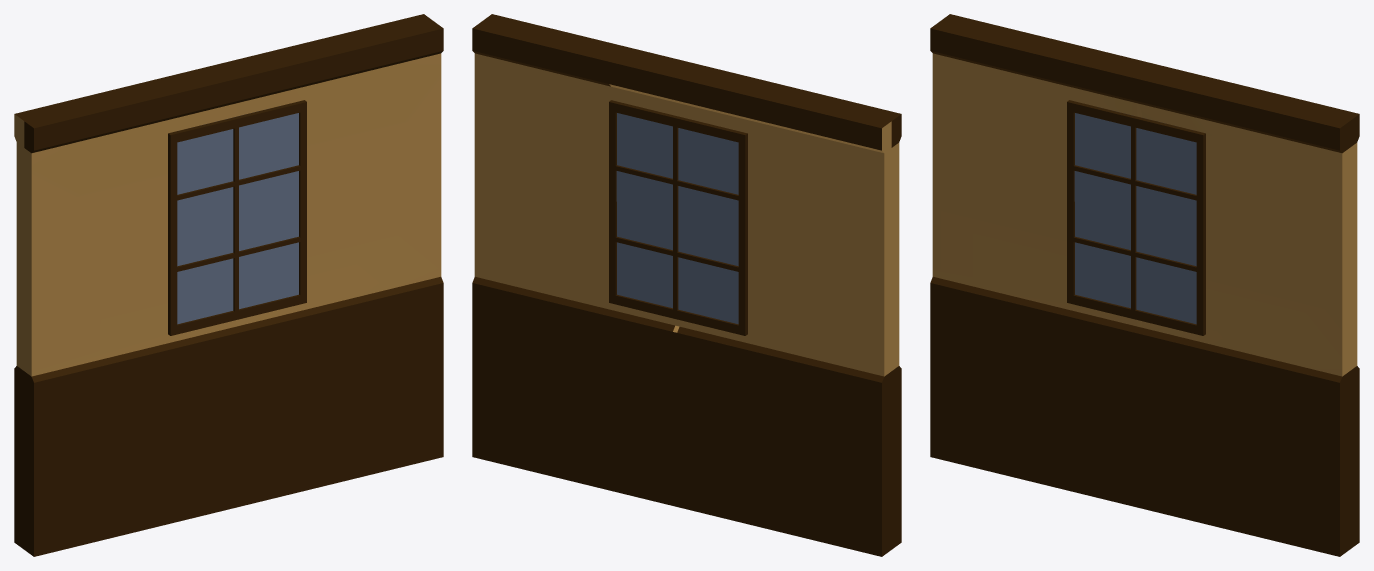
The model's file is Classic_WallWindow_02_snaps001.fbx.
3 views of the same model, side by side, from view 1: azimuth 30°, elevation 25°; view 2: azimuth 150°, elevation 25°; view 3: azimuth 330°, elevation 25° (orthographic).
Parts seen in each view (by area): view 1: Classic_WallWindow_02_snaps001; view 2: Classic_WallWindow_02_snaps001; view 3: Classic_WallWindow_02_snaps001.
Part boxes in pixels (x1,y1,x2,y2): Classic_WallWindow_02_snaps001: [14, 14, 443, 556]; Classic_WallWindow_02_snaps001: [472, 14, 901, 556]; Classic_WallWindow_02_snaps001: [930, 14, 1359, 556].
Bounding box in the file's own units: 300 × 300 × 25.
